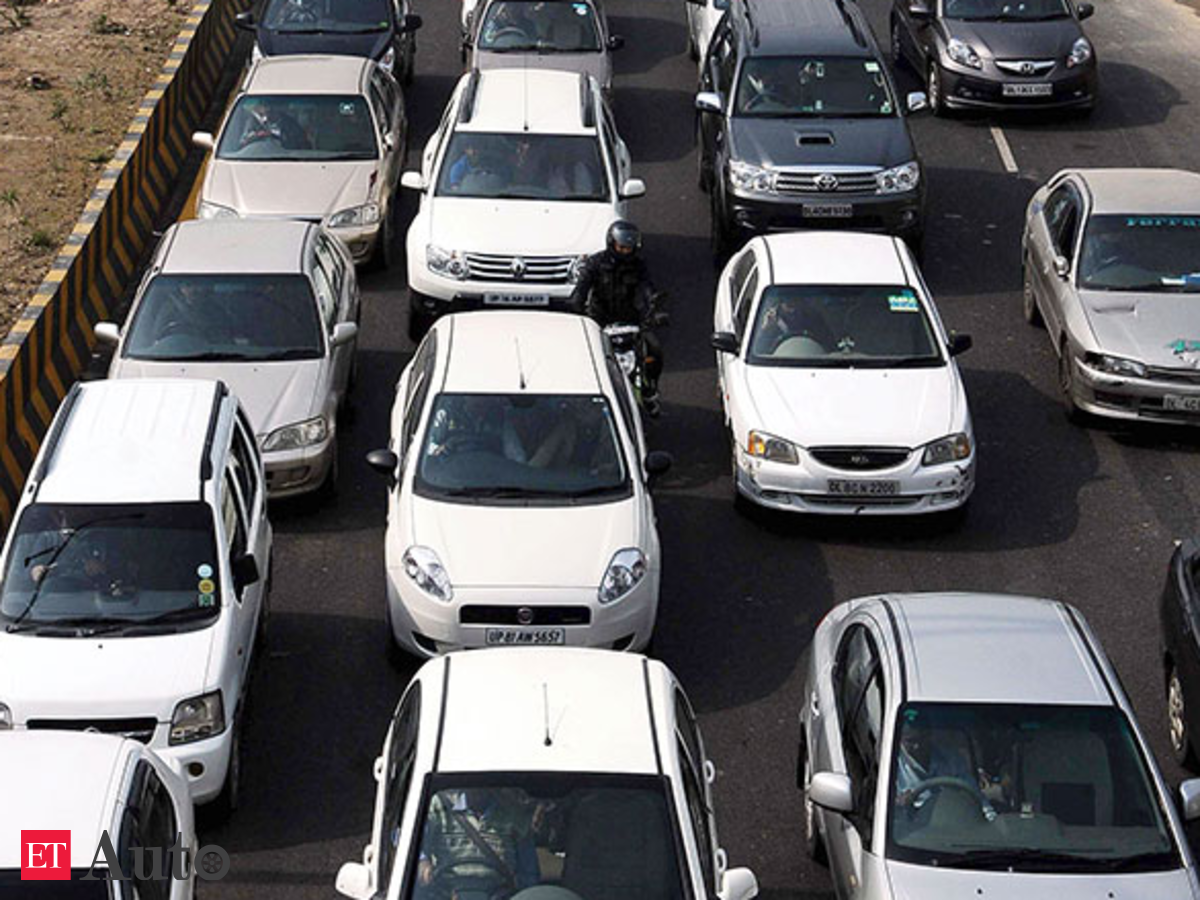car: (799, 580, 1197, 900), (1, 376, 281, 806), (373, 314, 665, 667), (694, 228, 992, 530), (385, 651, 718, 900), (132, 219, 365, 499), (423, 64, 638, 309), (1017, 160, 1200, 441), (696, 8, 932, 220), (209, 51, 403, 266)
